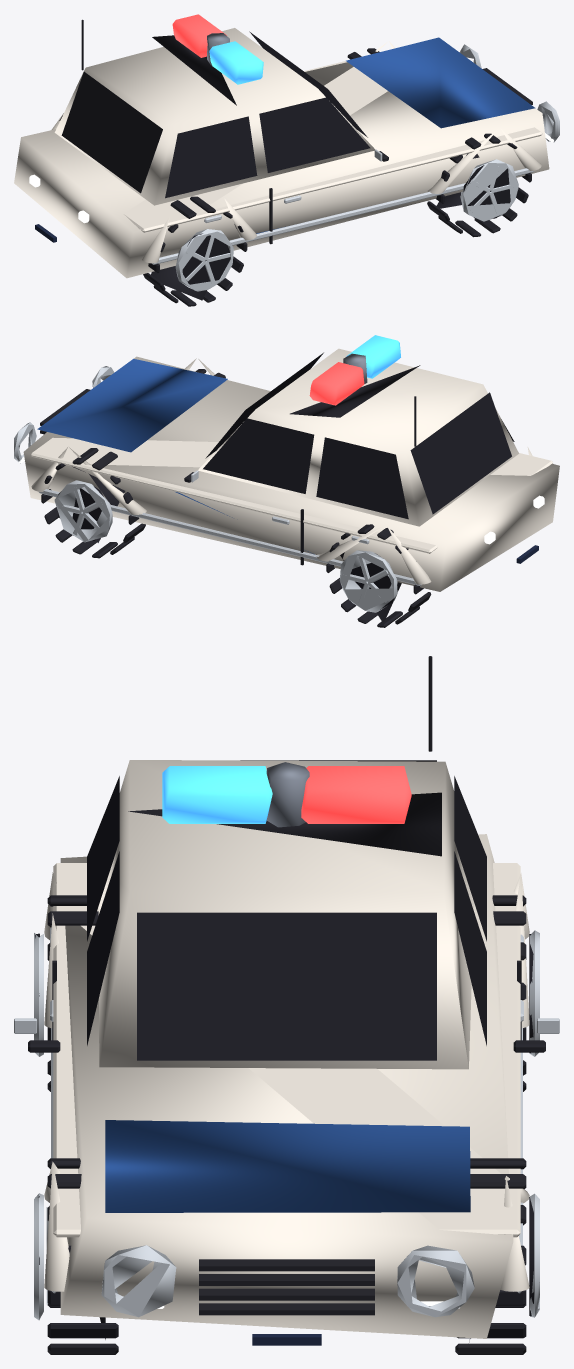
Rendered from police_car.glb.
3 renders of one model, top to bottom at view 1: azimuth 30°, elevation 25°; view 2: azimuth 150°, elevation 25°; view 3: azimuth 270°, elevation 25°, orthographic. The views are drawn at different scales.
Parts seen in each view (by area): view 1: police_car.010, beacon.030; view 2: police_car.010, beacon.030; view 3: police_car.010, beacon.030.
Boxes of the visible parts, x1,y1,x2,y2 form: police_car.010: [14, 19, 559, 306]; beacon.030: [172, 14, 263, 84]; police_car.010: [14, 348, 559, 627]; beacon.030: [309, 335, 400, 405]; police_car.010: [14, 656, 559, 1354]; beacon.030: [162, 762, 411, 827].
Bounding box in the file's own units: 4.48 × 1.94 × 2.36.
Materials: 1 (1 with a texture image).
